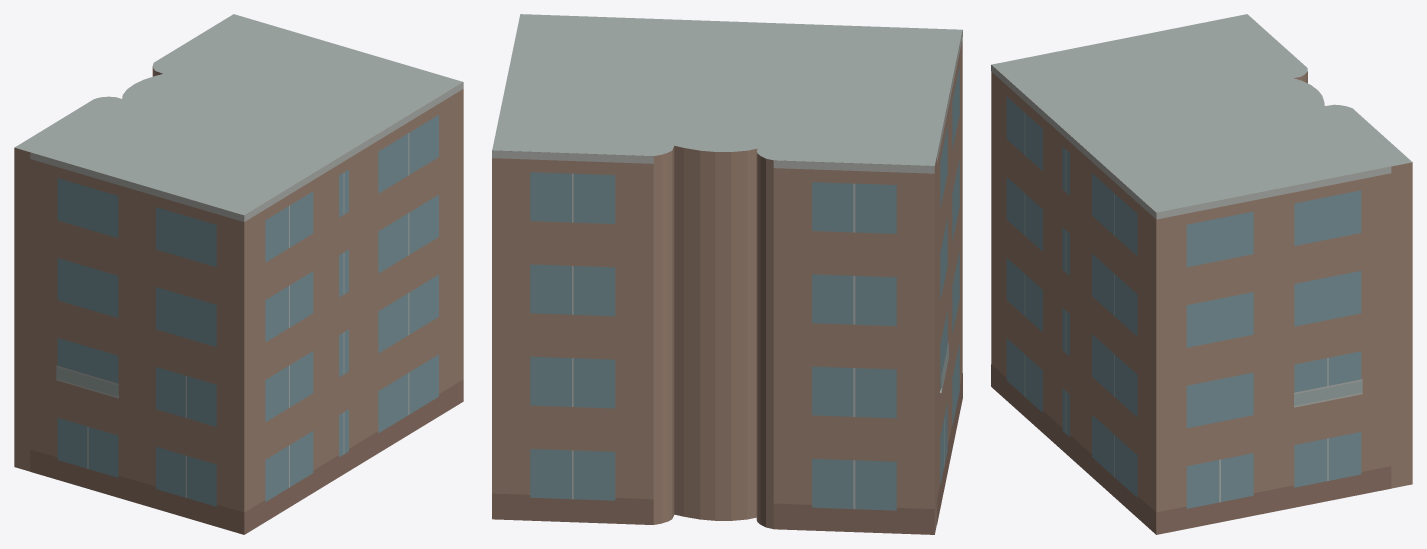
Rendered from survey-upis-32746320.glb.
The picture shows the model from 3 angles, left to right: view 1: azimuth 30°, elevation 25°; view 2: azimuth 150°, elevation 25°; view 3: azimuth 270°, elevation 25°; orthographic projection. The views are drawn at different scales.
Parts seen in each view (by area): view 1: survey-upis-32746320.tmp; view 2: survey-upis-32746320.tmp; view 3: survey-upis-32746320.tmp.
Boxes of the visible parts, bbox=[...] form: survey-upis-32746320.tmp: bbox=[14, 14, 463, 534]; survey-upis-32746320.tmp: bbox=[492, 14, 962, 534]; survey-upis-32746320.tmp: bbox=[991, 14, 1412, 534].
Bounding box in the file's own units: 15.36 × 11.6 × 13.77.
